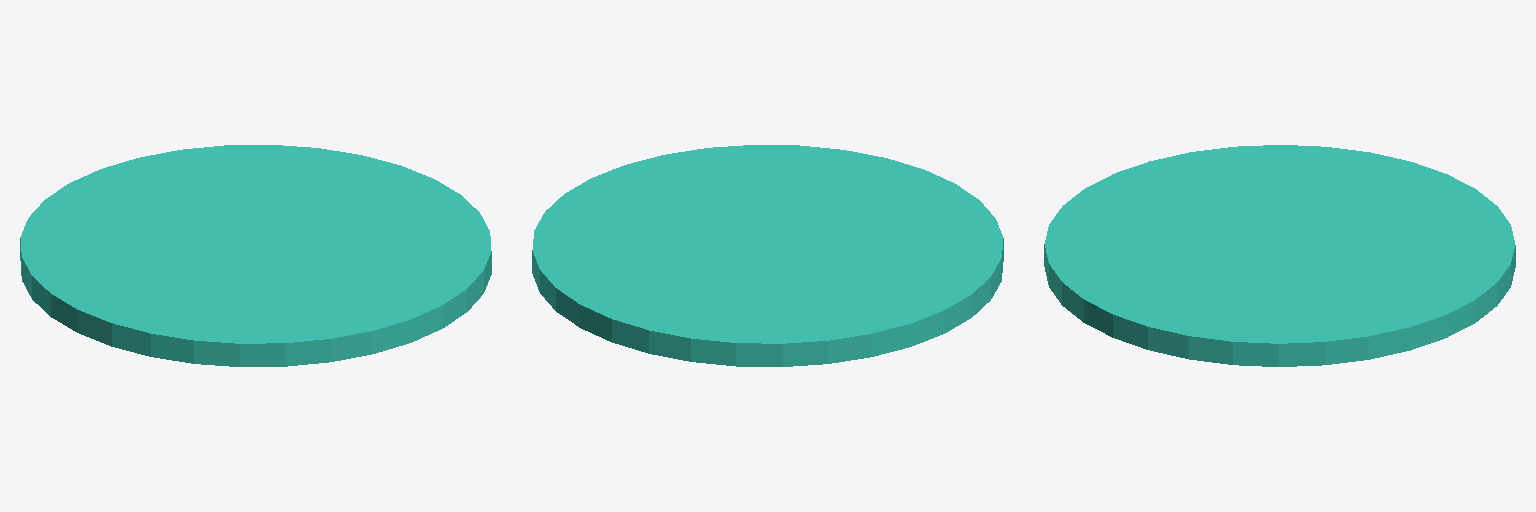
The robot description file, URDF, robot "Interference":
<?xml version="1.0"?>
<robot name="Interference">
  <link name="baseLink">
    <inertial>
      <origin xyz="0.0 0.0 0.0" rpy="0.0 0.0 0.0"/>
      <inertia ixx="0.0" ixy="0.0" ixz="0.0" iyy="0.0" iyz="0.0" izz="0.0"/>
      <mass value="0"/>
    </inertial>
    <visual>
      <origin xyz="0.0 0.0 0.0" rpy="0.0 0.0 1.1741532391637706"/>
      <geometry>
        <cylinder radius="0.09132383479936088" length="0.01"/>
      </geometry>
      <material name="color">
        <color rgba="0.29764182130370176 0.845363653484008 0.7666179882772415 1.0"/>
      </material>
    </visual>
  </link>
</robot>

--- Render facts (derived) ---
3 views of the same robot in one strip: view 1: azimuth 30°, elevation 25°; view 2: azimuth 150°, elevation 25°; view 3: azimuth 270°, elevation 25° (orthographic).
Robot: Interference — 1 links, 0 joints (none); root link baseLink; default pose: all joints at 0.
Visible links, largest first — view 1: baseLink; view 2: baseLink; view 3: baseLink.
Link boxes in pixels (x1,y1,x2,y2): baseLink: (20,145,491,366); baseLink: (532,145,1003,366); baseLink: (1044,145,1515,366).
Bounding box of the posed robot: 0.1826 × 0.1826 × 0.01 m (x, y, z).
Geometry: primitives only (box / cylinder / sphere), no mesh files.